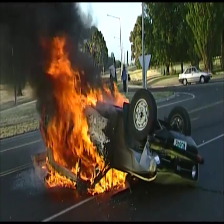fire_h: (42, 34, 107, 183), (77, 168, 127, 196), (103, 81, 129, 109), (45, 170, 76, 189)
fire_l: (42, 156, 53, 171)
